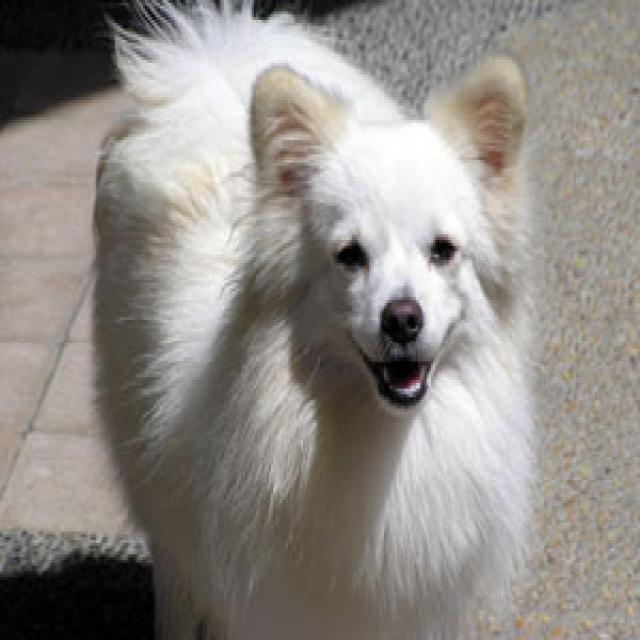dog-pomeranian: (87, 9, 544, 634)
